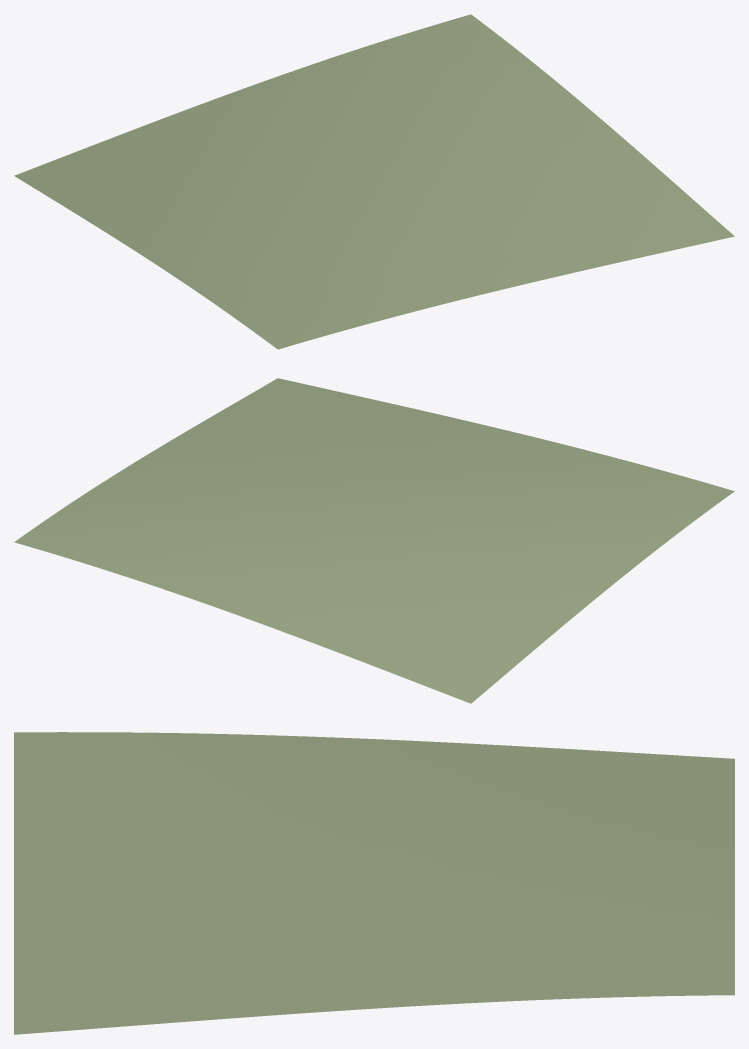
File: alpine-0-10.glb
3 views of the same model, one above another, from view 1: azimuth 30°, elevation 25°; view 2: azimuth 150°, elevation 25°; view 3: azimuth 270°, elevation 25° (orthographic). The views are drawn at different scales.
Visible parts, largest first — view 1: alpine-0-10; view 2: alpine-0-10; view 3: alpine-0-10.
Part boxes in pixels (x1=…): alpine-0-10: x1=14, y1=14, x2=734, y2=349; alpine-0-10: x1=14, y1=378, x2=734, y2=703; alpine-0-10: x1=14, y1=732, x2=734, y2=1034.
Size of the model in its own units: 256 by 26.75 by 256.
